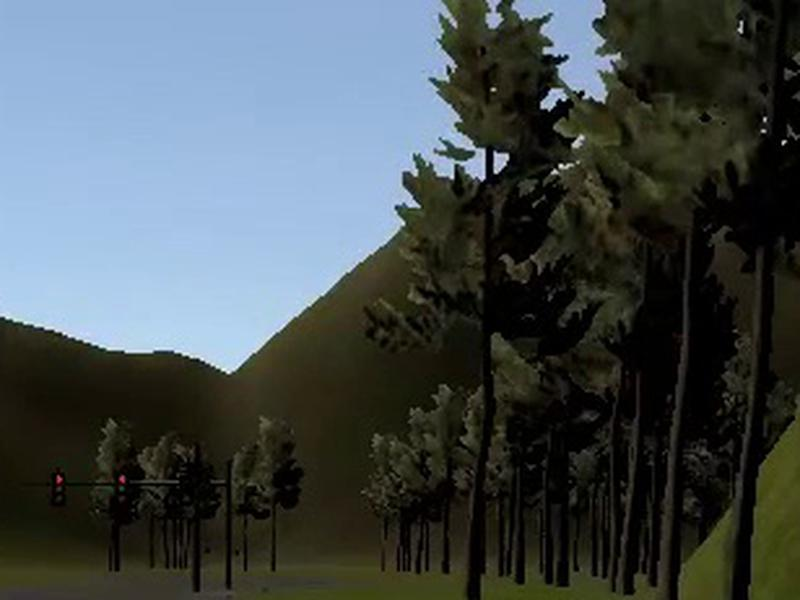Red: (51, 472, 65, 510), (115, 471, 128, 508)
